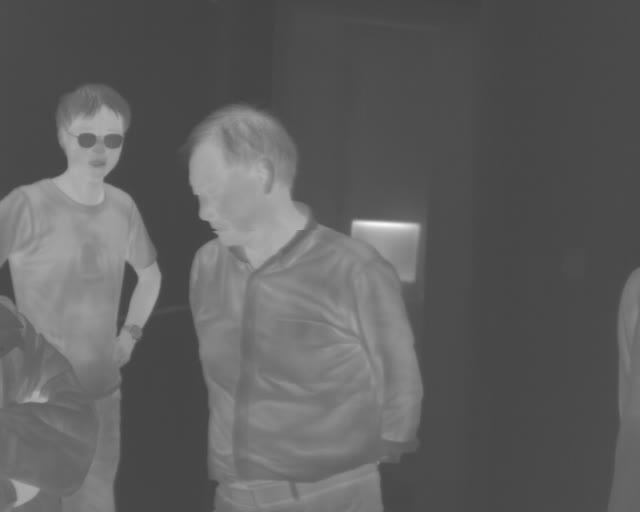face: (181, 102, 299, 247), (54, 82, 133, 179)
